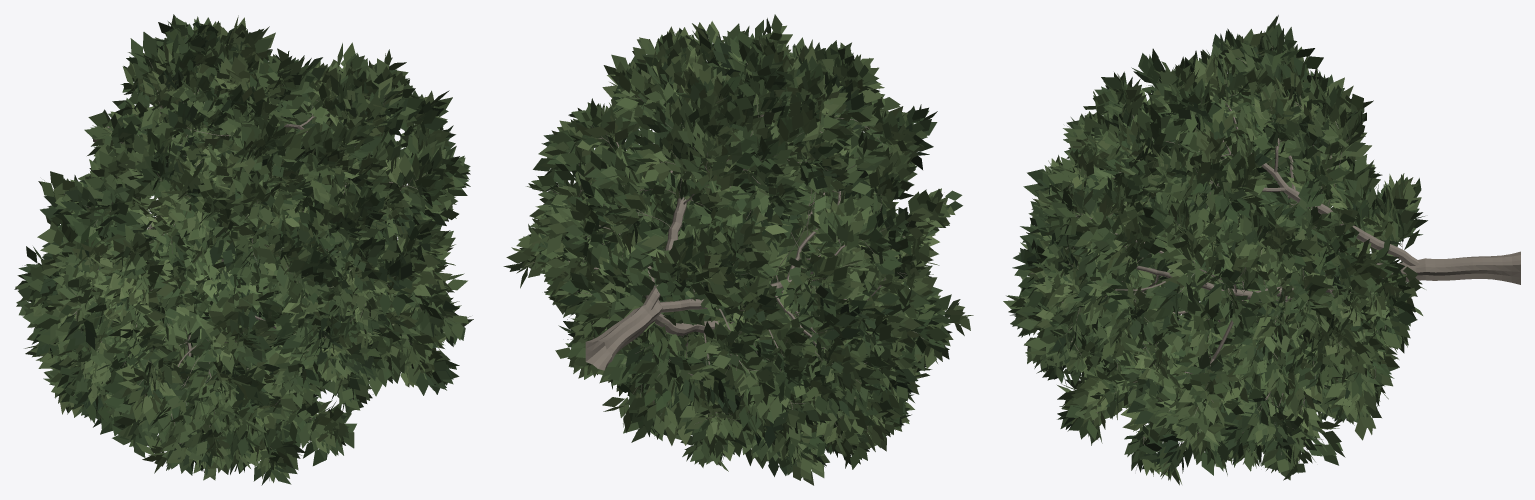
File: tree_near_03.obj
The picture shows the model from 3 angles, left to right: view 1: azimuth 30°, elevation 25°; view 2: azimuth 150°, elevation 25°; view 3: azimuth 270°, elevation 25°; orthographic projection.
Visible parts, largest first — view 1: tree_near_03; view 2: tree_near_03; view 3: tree_near_03.
Boxes of the visible parts, <box> form: tree_near_03: <box>14,14,473,485</box>; tree_near_03: <box>503,14,973,485</box>; tree_near_03: <box>1003,15,1520,485</box>.
Size of the model in its own units: 0.9171 by 0.8858 by 0.9956.
1 material, 1 textured.
